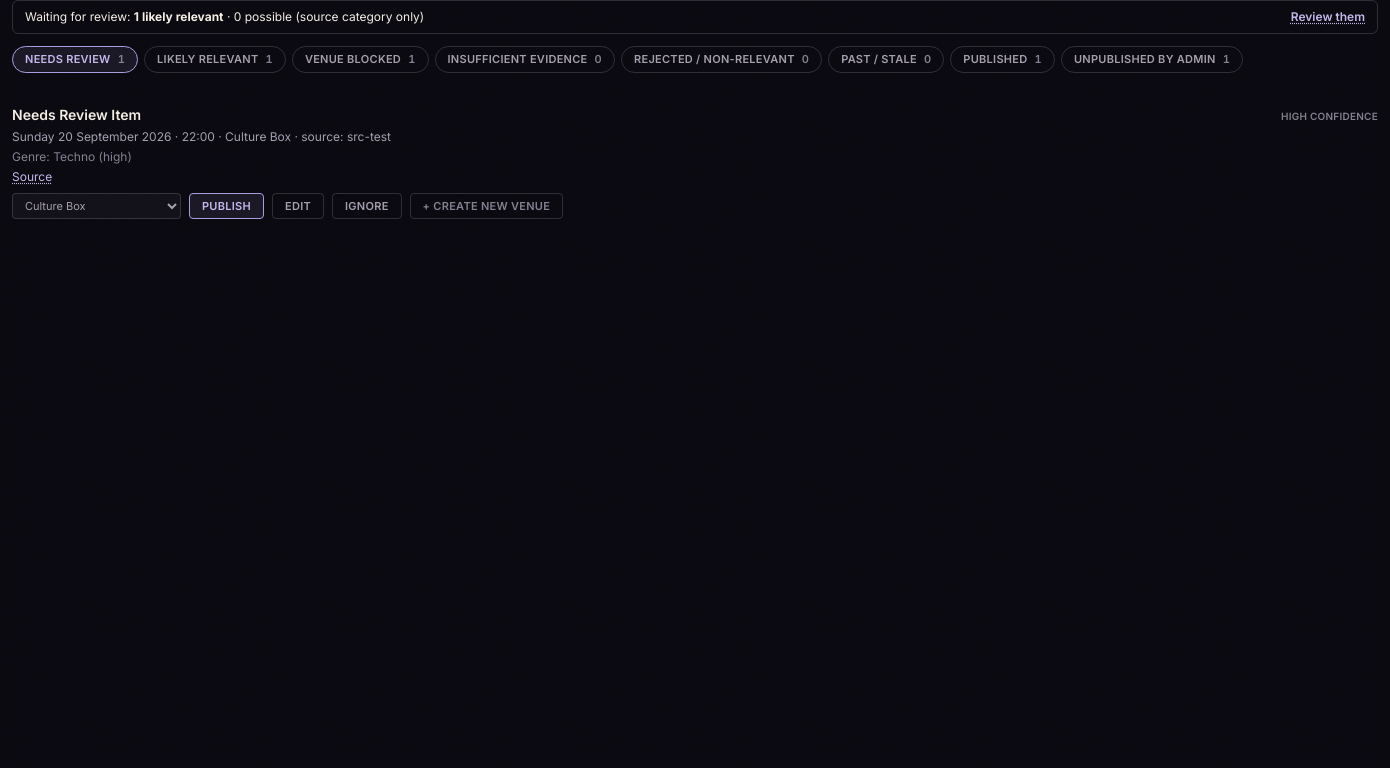
Test: AdminQueueTabs — Likely relevant (review prioritisation) › shows the series-memory reason on its own line, marked as ranking only
The width and height of the screenshot is (1390, 768).
Click the tab "Likely relevant 1" at x=215, y=59, box top-left (144, 46), bottom-right (286, 72)
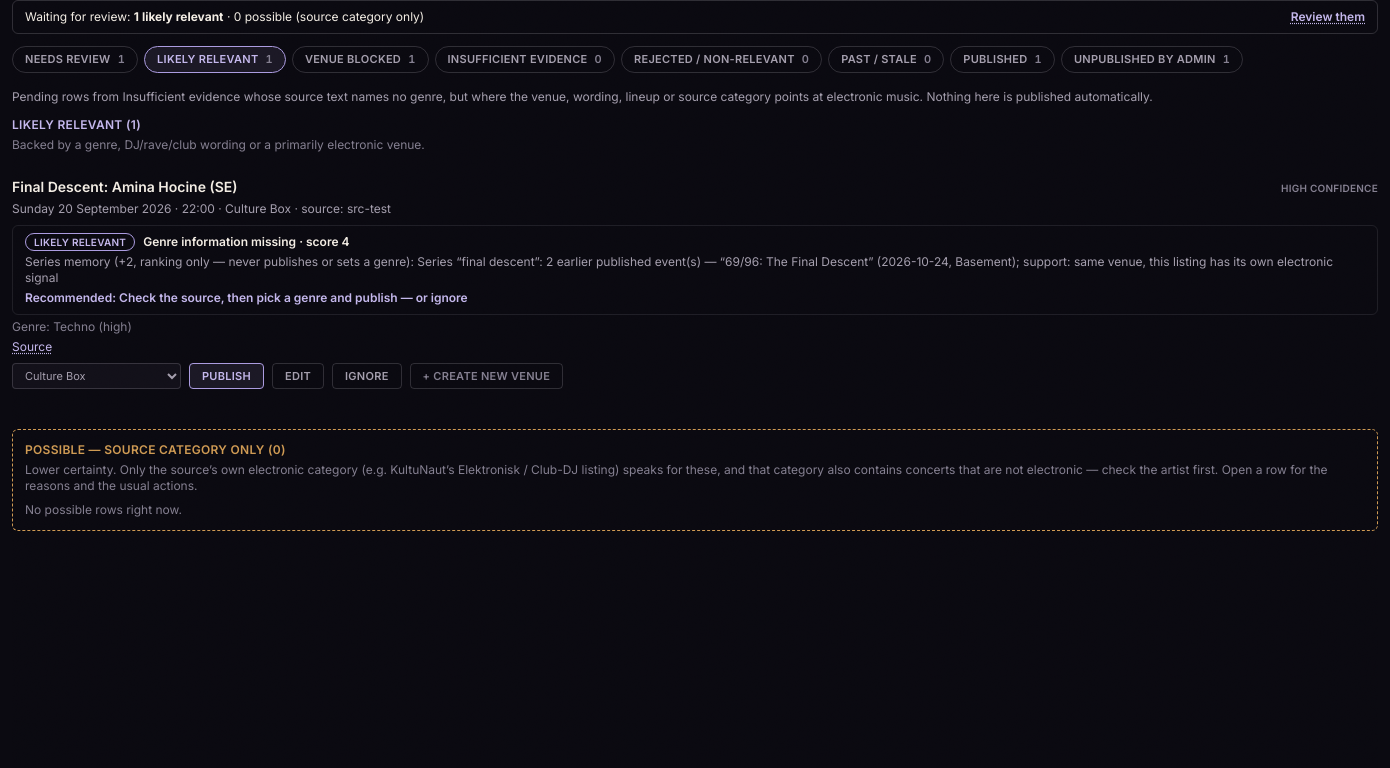
Expected: the text with test id "series-memory" shows "Series memory (+2, ranking only — never publishes or sets a genre)", top-left (25, 254), bottom-right (1365, 286)
Expected: the text with test id "series-memory" shows "“69/96: The Final Descent” (2026-10-24, Basement)", top-left (25, 254), bottom-right (1333, 284)
